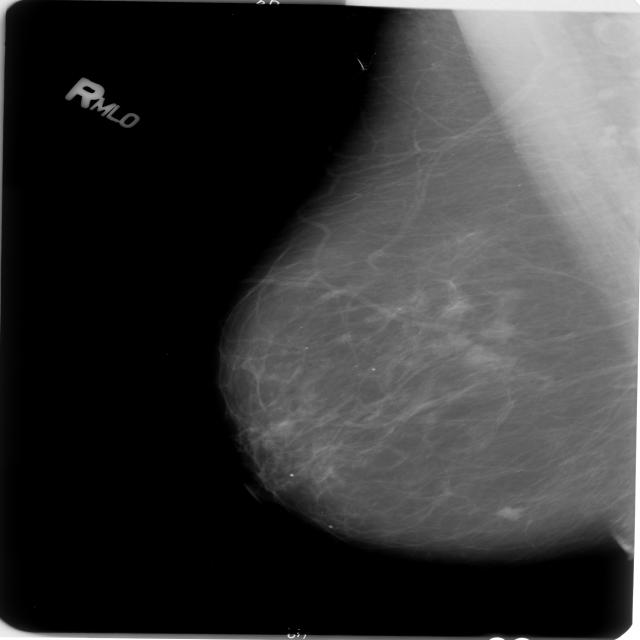normal: (210, 0, 640, 566)
